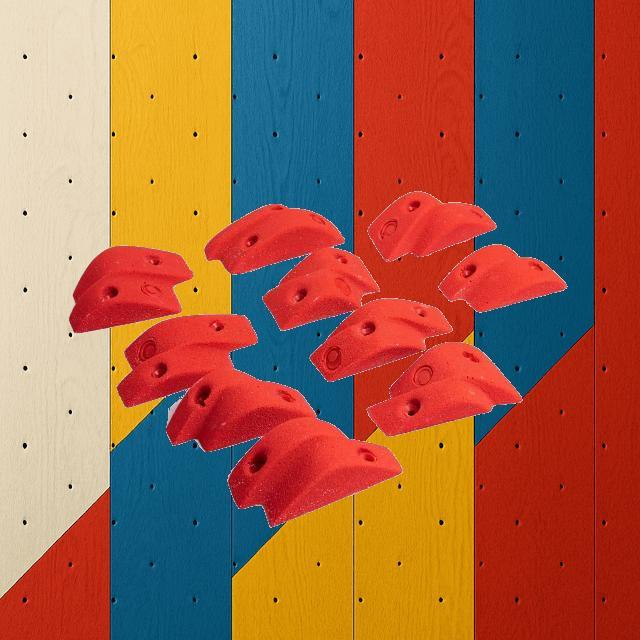Pinch: (225, 415, 402, 527), (364, 341, 522, 437), (114, 312, 258, 408), (308, 298, 452, 382), (165, 370, 315, 450), (67, 244, 191, 334), (202, 205, 344, 275), (261, 246, 379, 330), (366, 190, 496, 262), (441, 244, 565, 312)
